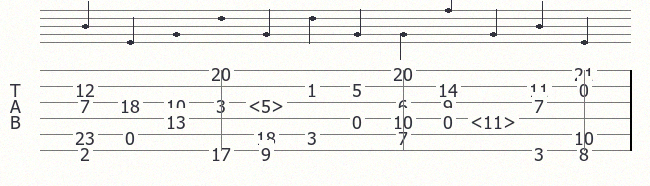0: (125, 126, 139, 143), (352, 110, 366, 127), (443, 110, 457, 127), (579, 78, 593, 95)
1: (307, 78, 321, 95)
10: (166, 94, 190, 111), (393, 110, 417, 127), (574, 126, 598, 143)
11: (529, 78, 553, 95)
12: (75, 78, 99, 95)
13: (166, 110, 190, 127)
14: (438, 78, 462, 95)
17: (211, 142, 235, 159)
18: (120, 94, 144, 111), (256, 126, 280, 143)
2: (80, 142, 94, 159)
20: (211, 62, 235, 79), (393, 62, 417, 79)
21: (574, 62, 598, 79)
23: (75, 126, 99, 143)
3: (216, 94, 230, 111), (307, 126, 321, 143), (534, 142, 548, 159)
5: (352, 78, 366, 95)
6: (398, 94, 412, 111)
7: (80, 94, 94, 111), (398, 126, 412, 143), (534, 94, 548, 111)
8: (579, 142, 593, 159)
9: (261, 142, 275, 159), (443, 94, 457, 111)
harmonic: (470, 110, 520, 127), (248, 94, 288, 111)
